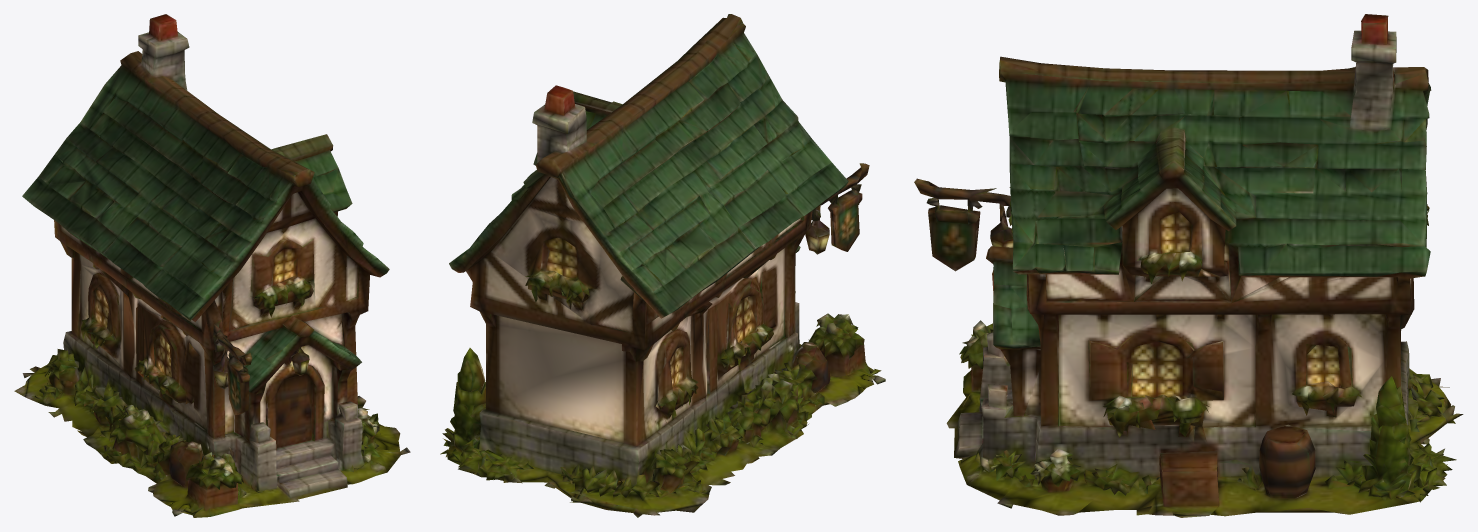
File: house-c.glb
3 views of the same model, side by side, from view 1: azimuth 30°, elevation 25°; view 2: azimuth 150°, elevation 25°; view 3: azimuth 270°, elevation 25° (orthographic). The views are drawn at different scales.
Visible parts, largest first — view 1: Mesh1.0; view 2: Mesh1.0; view 3: Mesh1.0.
Part boxes in pixels (<box>): Mesh1.0: <box>14,14,410,517</box>; Mesh1.0: <box>440,14,885,517</box>; Mesh1.0: <box>914,14,1463,517</box>.
Size of the model in its own units: 1.28 by 1.63 by 1.89.
1 material, 1 textured.
